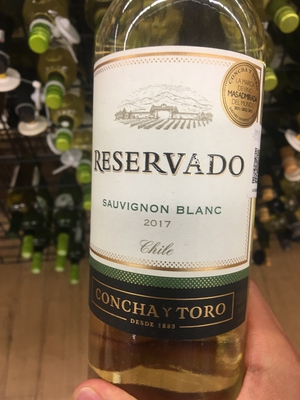reservado sauvignon blanc: (92, 22, 265, 397)
